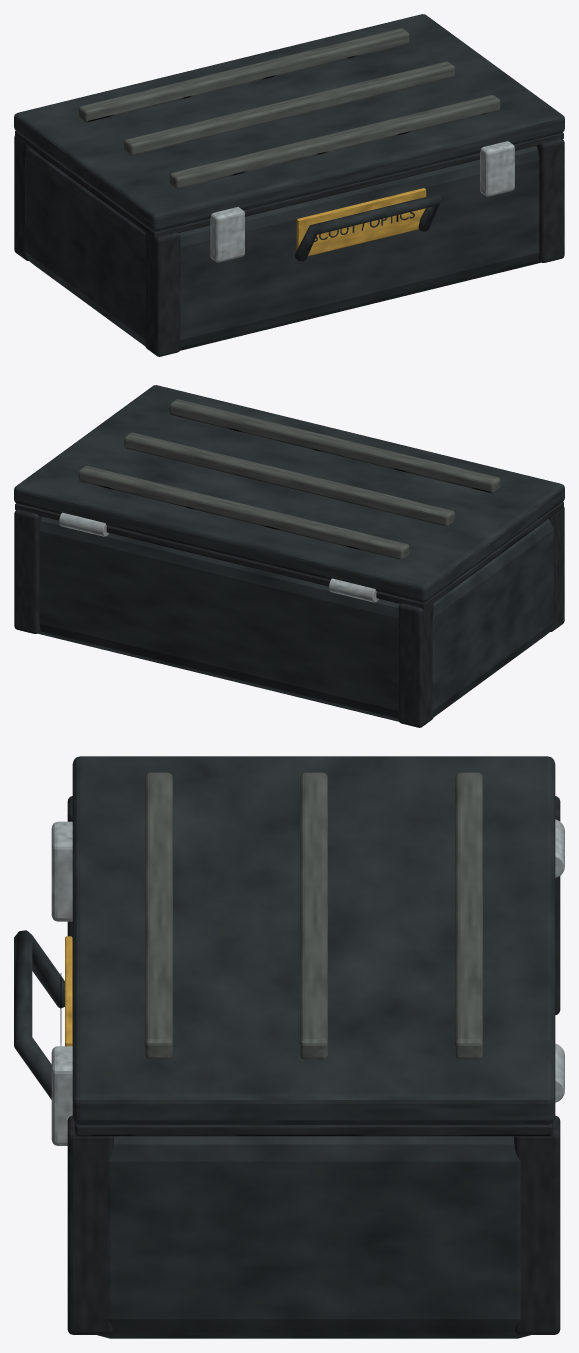
File: GR_DroneHardCase_02.glb
3 renders of one model, top to bottom at view 1: azimuth 30°, elevation 25°; view 2: azimuth 150°, elevation 25°; view 3: azimuth 270°, elevation 25°, orthographic. The views are drawn at different scales.
Parts seen in each view (by area): view 1: Static; view 2: Static; view 3: Static.
Boxes of the visible parts, bbox=[...] form: Static: bbox=[14, 14, 564, 356]; Static: bbox=[14, 385, 564, 727]; Static: bbox=[14, 756, 564, 1338].
Bounding box in the file's own units: 0.838 × 0.312 × 0.5685.
Materials: 1 (1 with a texture image).
